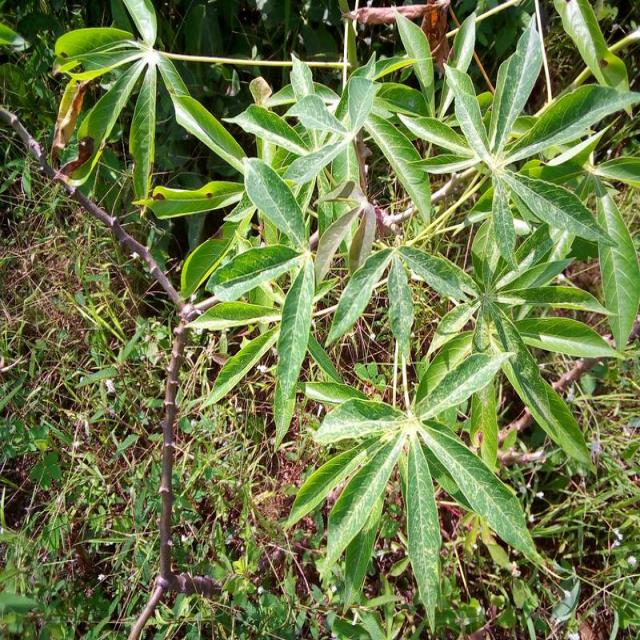cassava leaf: (52, 1, 639, 632), (286, 335, 541, 632)
